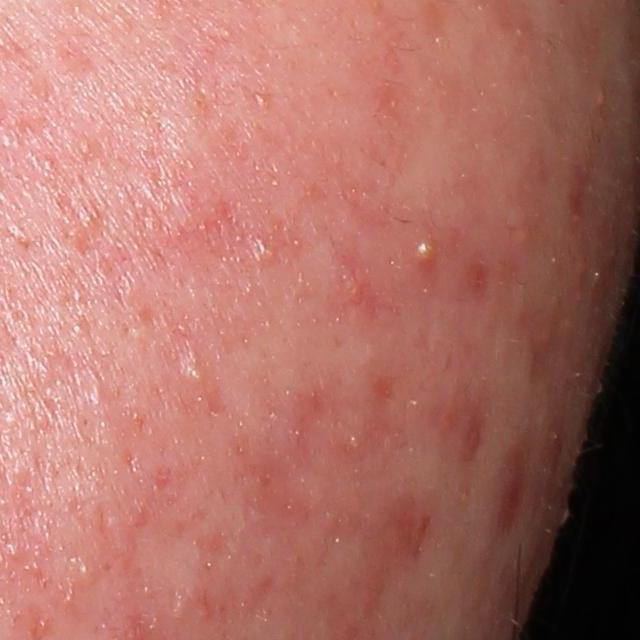comedo: (70, 558, 101, 593), (181, 363, 205, 391)
pustule: (410, 240, 435, 267)
